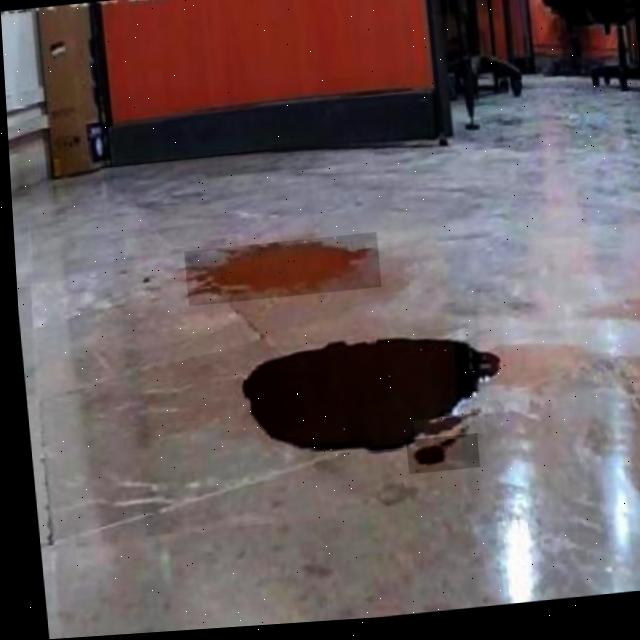spillage: (233, 341, 500, 458), (184, 244, 375, 299), (402, 439, 469, 479), (410, 419, 477, 445)
